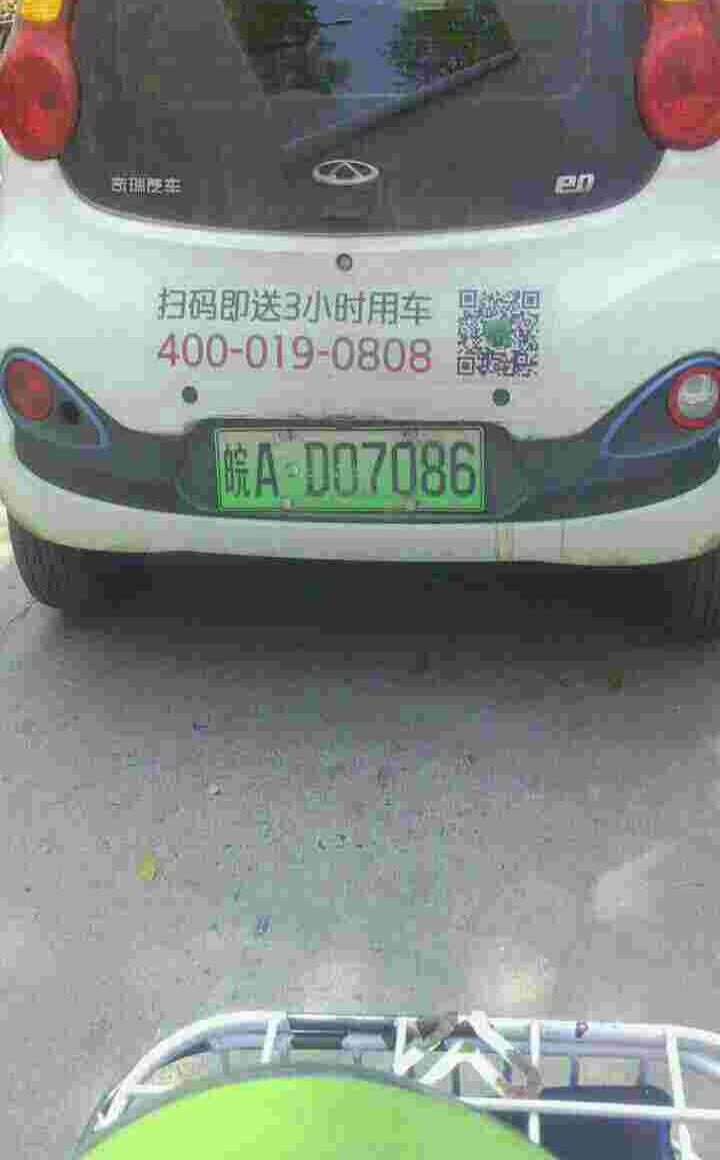car: (189, 430, 492, 518)
